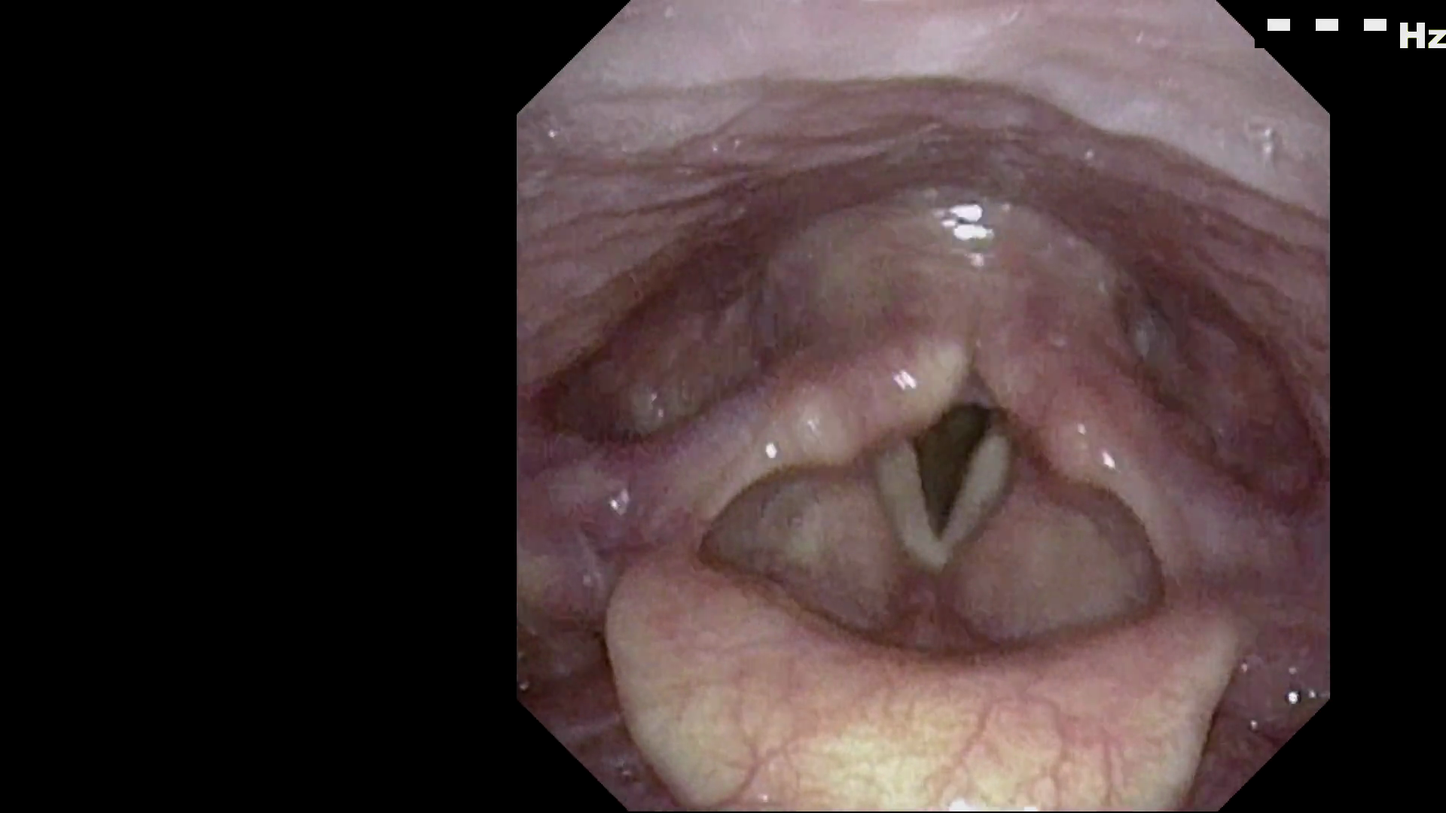epiglottis: (598, 524, 1233, 768)
trachea: (872, 371, 1050, 596)
